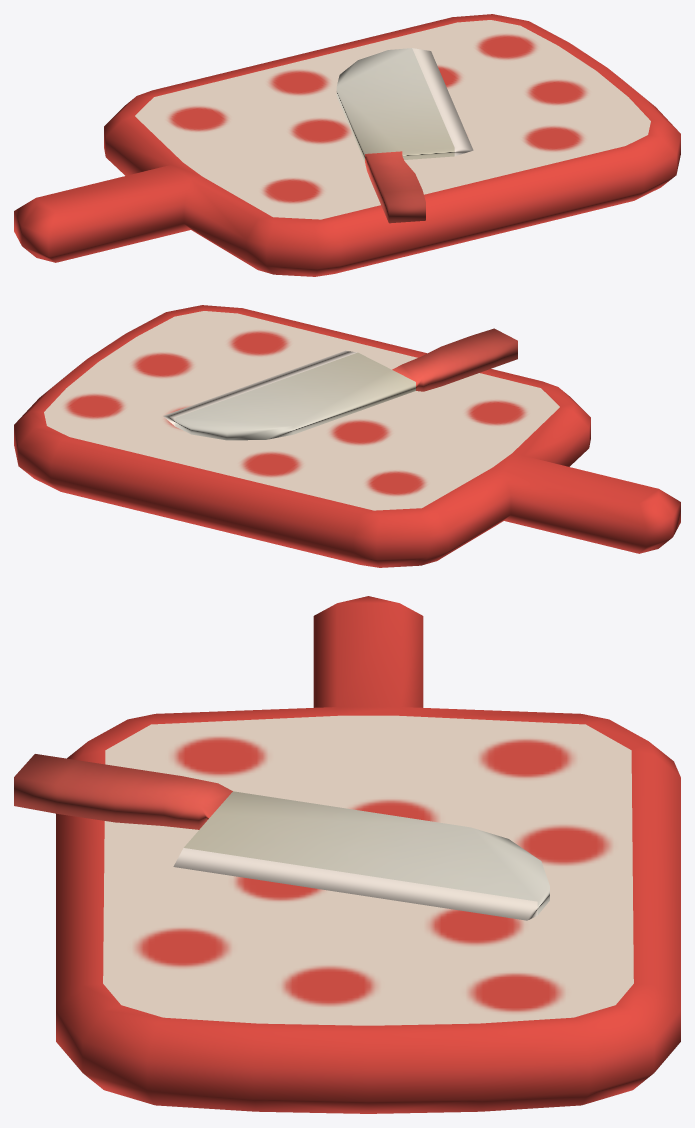
Rendered from Homestead_cm_16.fbx.
The picture shows the model from 3 angles, top to bottom: view 1: azimuth 30°, elevation 25°; view 2: azimuth 150°, elevation 25°; view 3: azimuth 270°, elevation 25°; orthographic projection. The views are drawn at different scales.
Parts seen in each view (by area): view 1: Homestead_cm_16; view 2: Homestead_cm_16; view 3: Homestead_cm_16.
Part boxes in pixels (<box>): Homestead_cm_16: <box>14,14,680,276</box>; Homestead_cm_16: <box>14,305,680,567</box>; Homestead_cm_16: <box>14,596,680,1113</box>.
Size of the model in its own units: 93.46 by 10.47 by 57.16.
